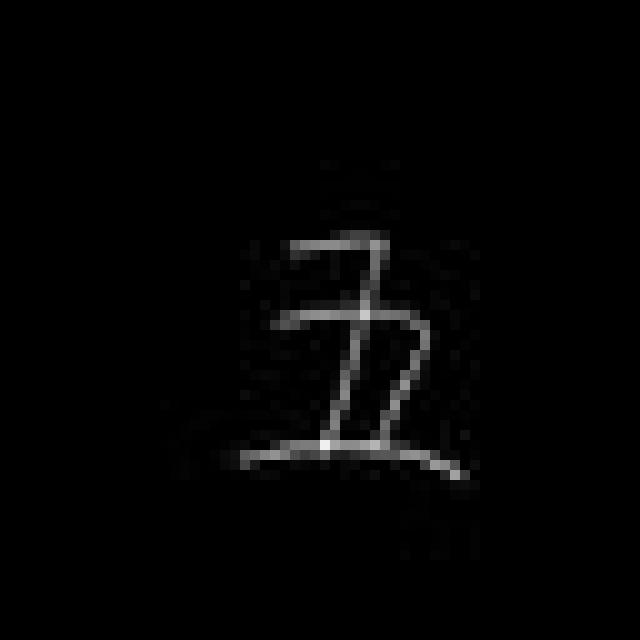5 -five-: (233, 222, 470, 499)
